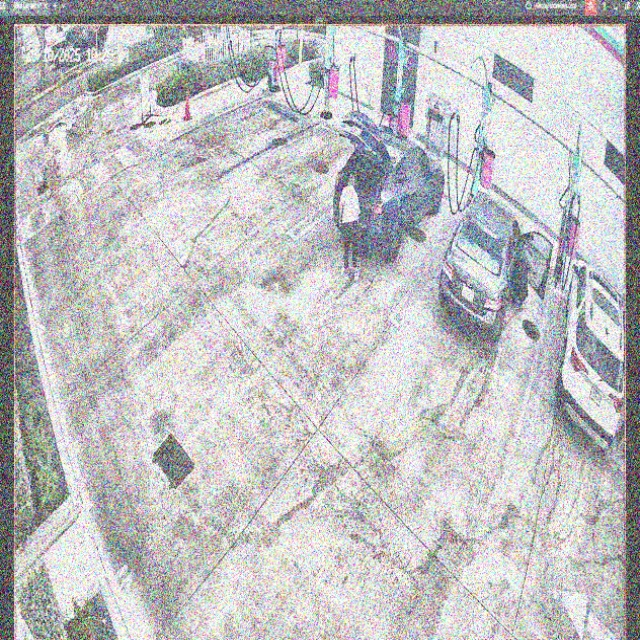Car: (440, 187, 547, 338), (335, 107, 445, 251)
